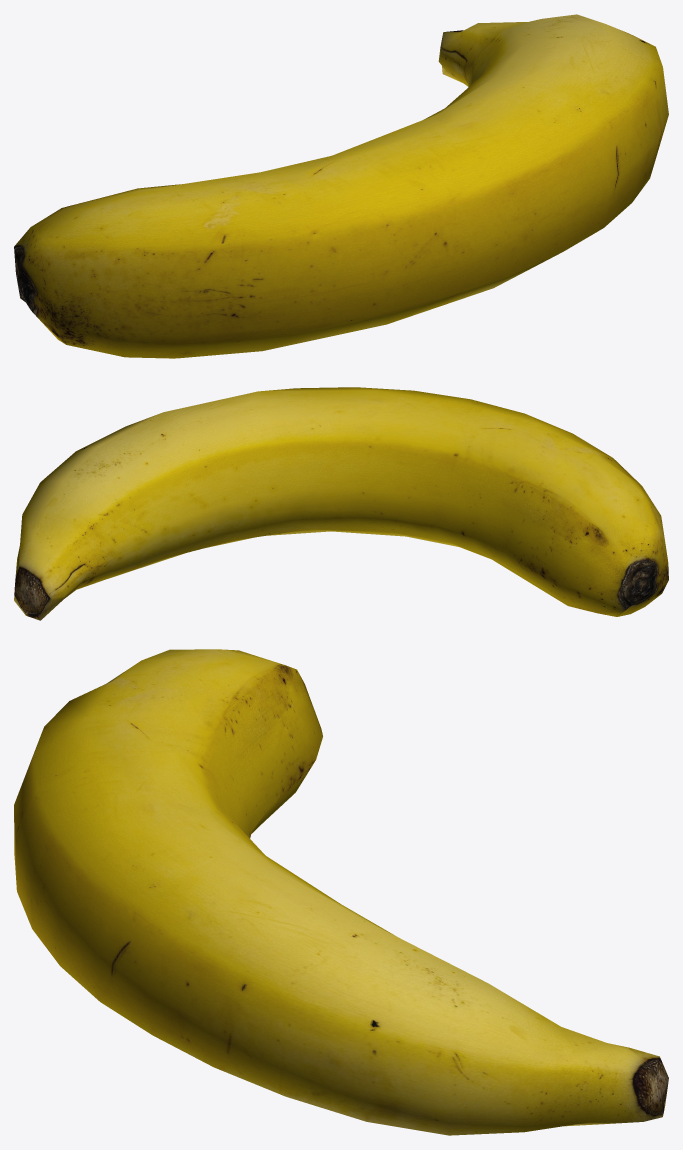
File: banana.glb
3 renders of one model, top to bottom at view 1: azimuth 30°, elevation 25°; view 2: azimuth 150°, elevation 25°; view 3: azimuth 270°, elevation 25°, orthographic. The views are drawn at different scales.
Visible parts, largest first — view 1: Banana_Banana PBR_0; view 2: Banana_Banana PBR_0; view 3: Banana_Banana PBR_0.
Part boxes in pixels (left/top/right/bottom): Banana_Banana PBR_0: left=14, top=14, right=668, bottom=358; Banana_Banana PBR_0: left=14, top=387, right=668, bottom=620; Banana_Banana PBR_0: left=14, top=649, right=668, bottom=1135.
Size of the model in its own units: 0.4314 by 0.0994 by 0.3082.
1 material, 1 textured.
